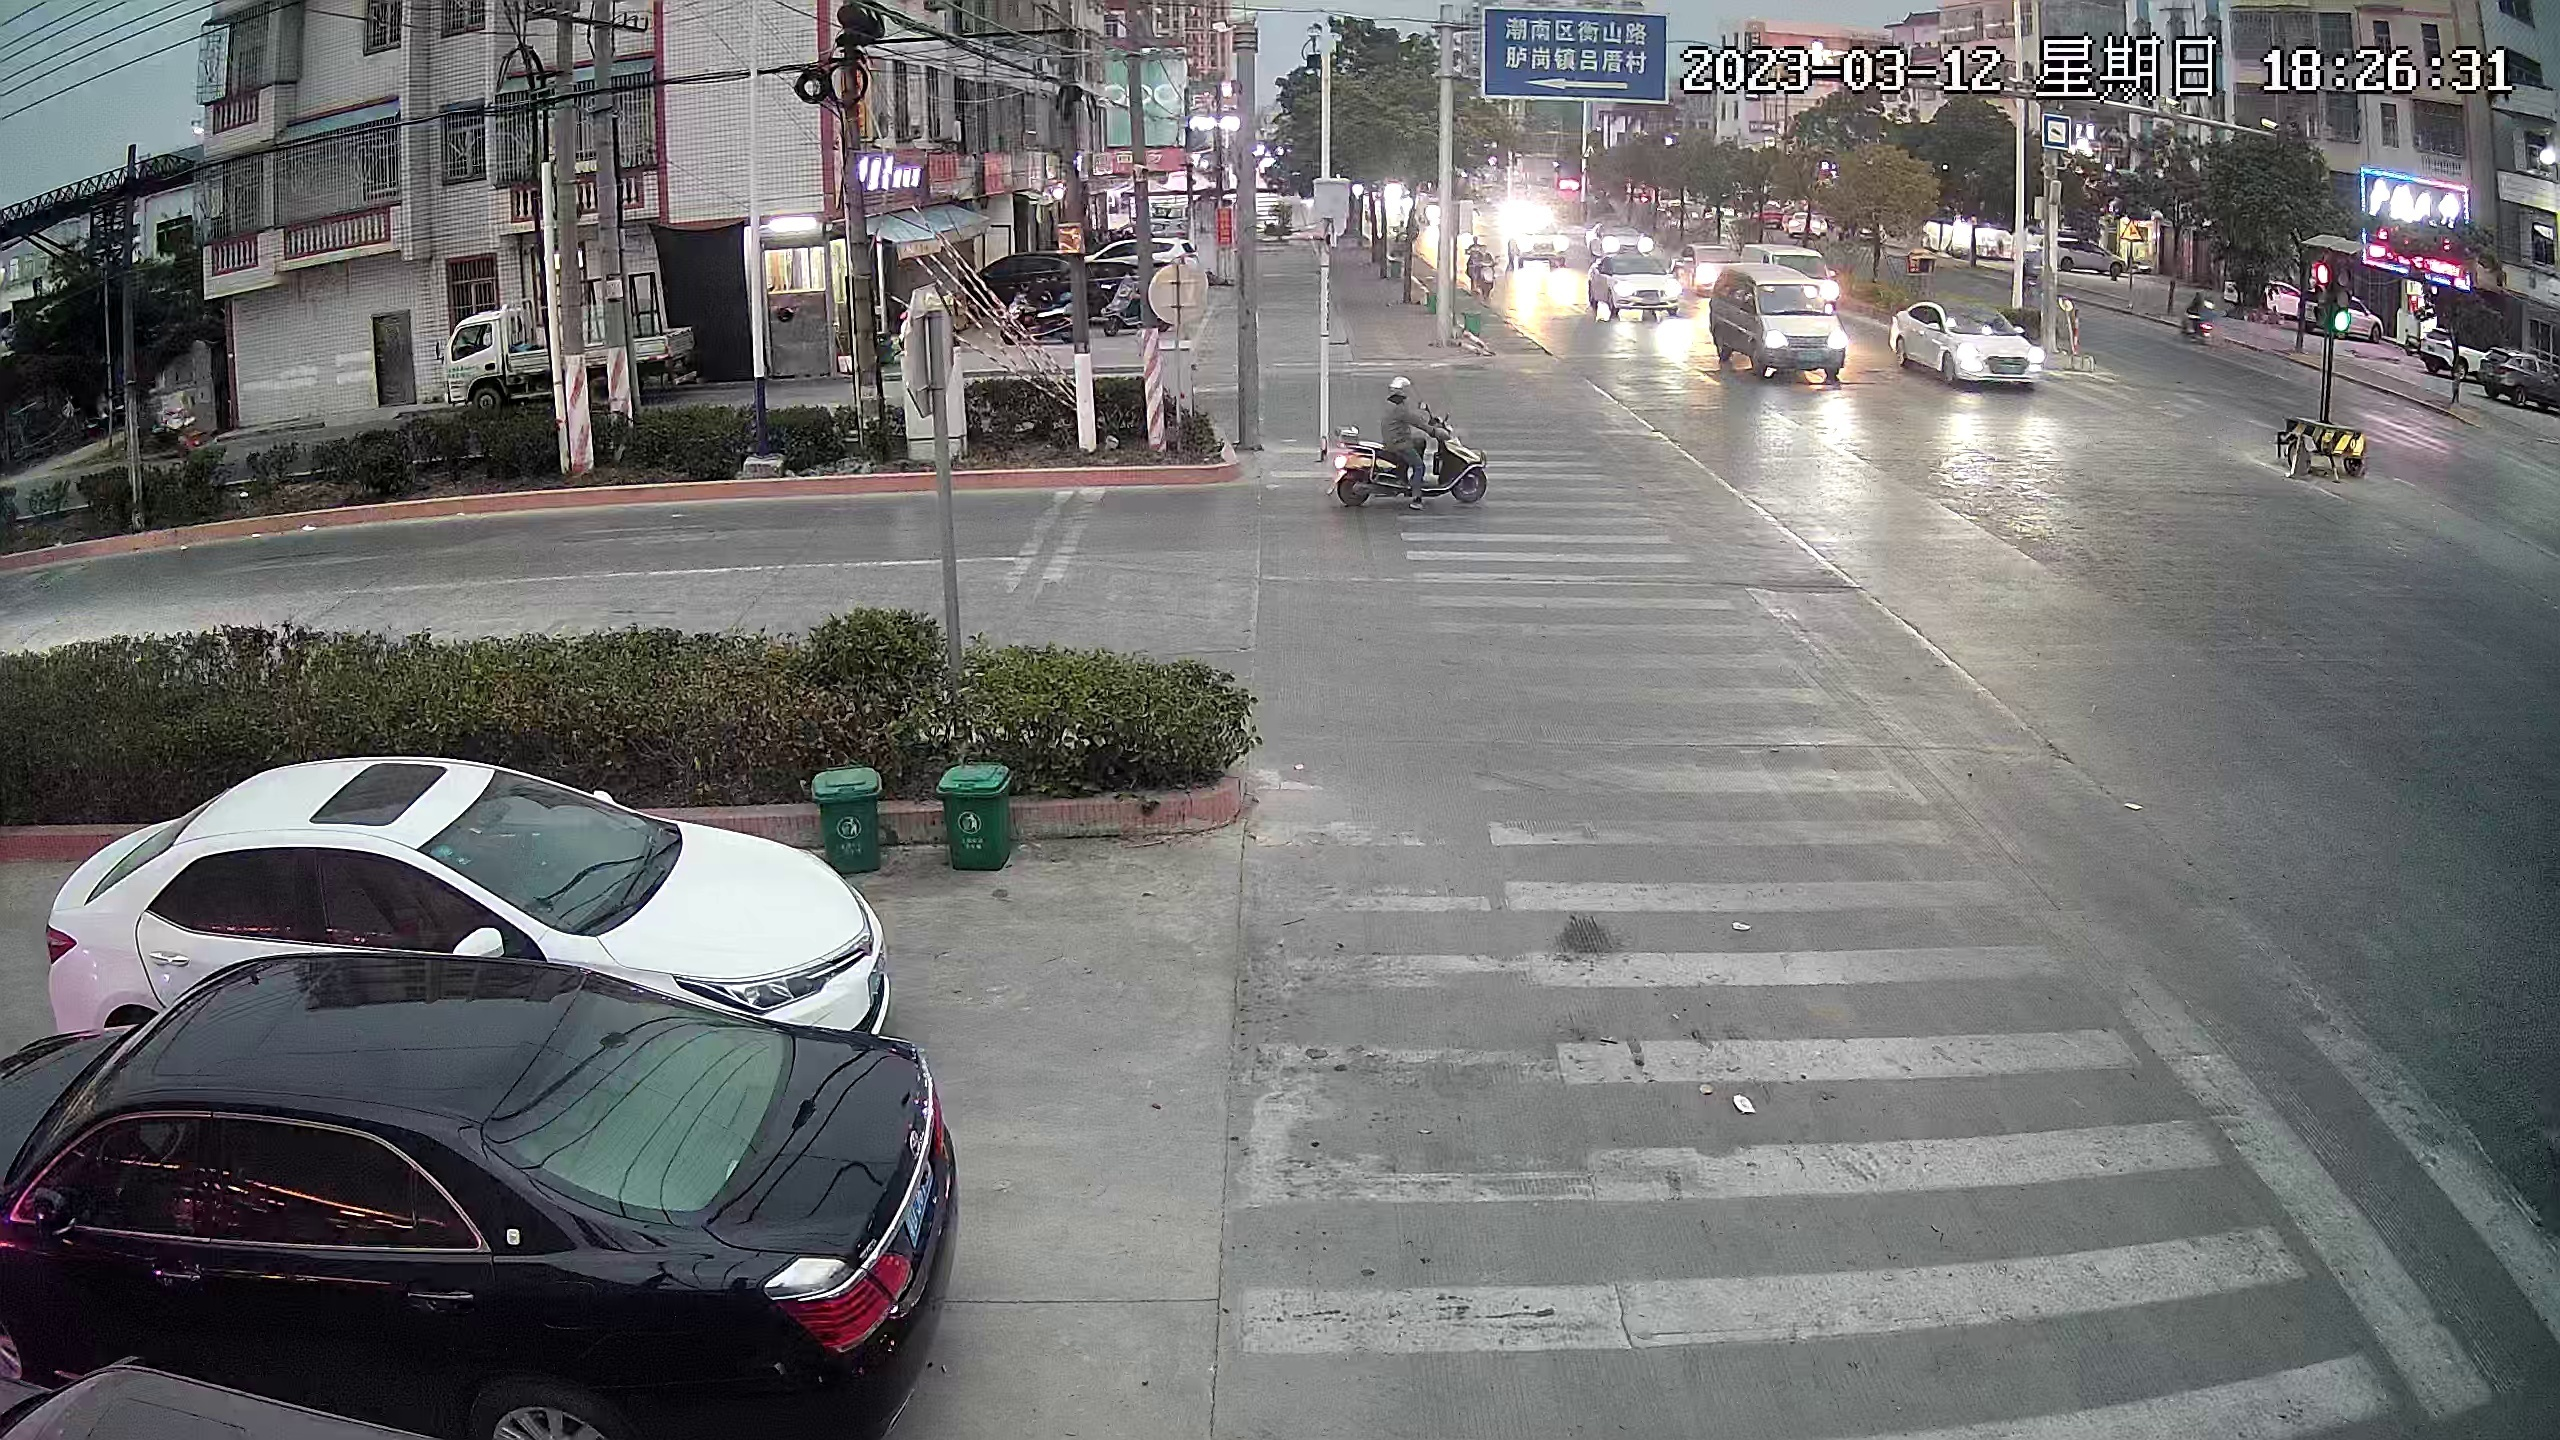motorcycle: (1324, 375, 1498, 524), (995, 298, 1080, 343), (1102, 280, 1155, 332), (2180, 283, 2215, 349), (1467, 239, 1497, 299)
person: (1380, 372, 1448, 525)
sedan: (17, 965, 967, 1414), (38, 747, 899, 1023), (1890, 300, 2043, 389), (1590, 255, 1682, 324), (2044, 234, 2130, 287), (2315, 289, 2377, 344), (1584, 218, 1654, 255)
suv: (1728, 265, 1845, 388), (978, 249, 1084, 302), (2494, 350, 2558, 413), (2419, 325, 2488, 385), (1508, 209, 1565, 267), (1098, 237, 1198, 267)
truck: (449, 292, 704, 404)
